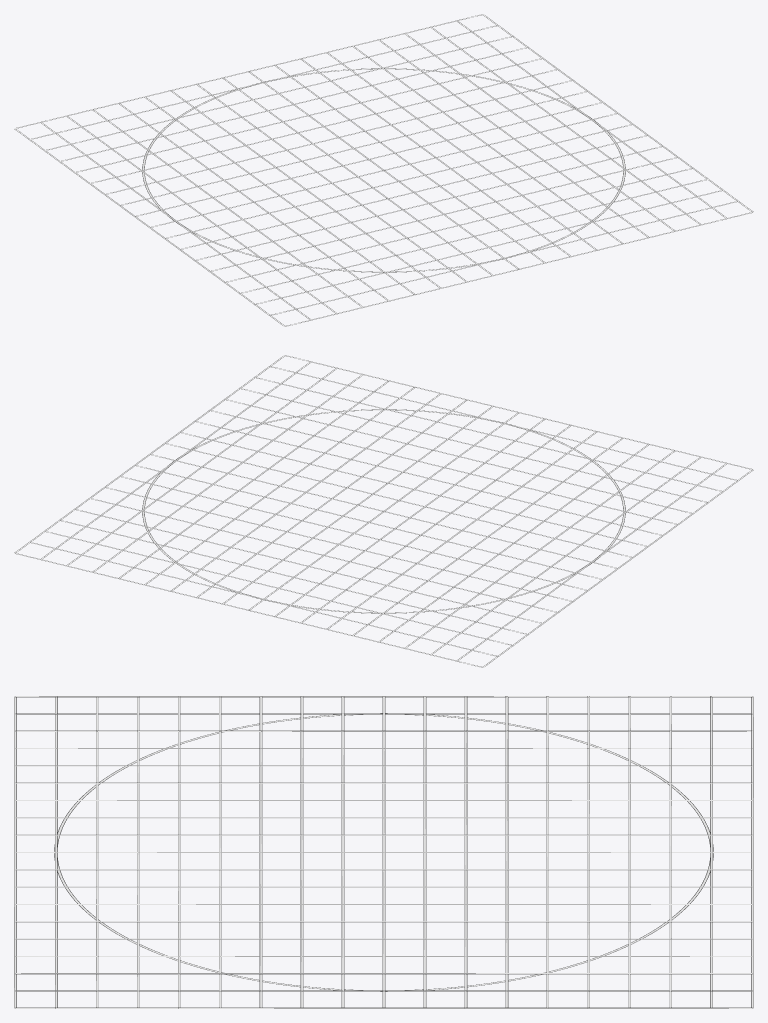
Rendered from Encounter Grid.FBX.
3 views of the same model, one above another, from view 1: azimuth 30°, elevation 25°; view 2: azimuth 150°, elevation 25°; view 3: azimuth 270°, elevation 25° (orthographic). The views are drawn at different scales.
Visible parts, largest first — view 1: Grid, Boundary; view 2: Grid, Boundary; view 3: Grid, Boundary.
Boxes of the visible parts, box(x1,y1,x2,y2) form: Grid: box(14, 14, 753, 326); Boundary: box(142, 68, 625, 272); Grid: box(14, 355, 753, 667); Boundary: box(142, 409, 625, 613); Grid: box(14, 696, 753, 1008); Boundary: box(54, 713, 713, 991).
Bounding box in the file's own units: 9248 × 0.000501 × 9248.
1 material, 1 textured.
